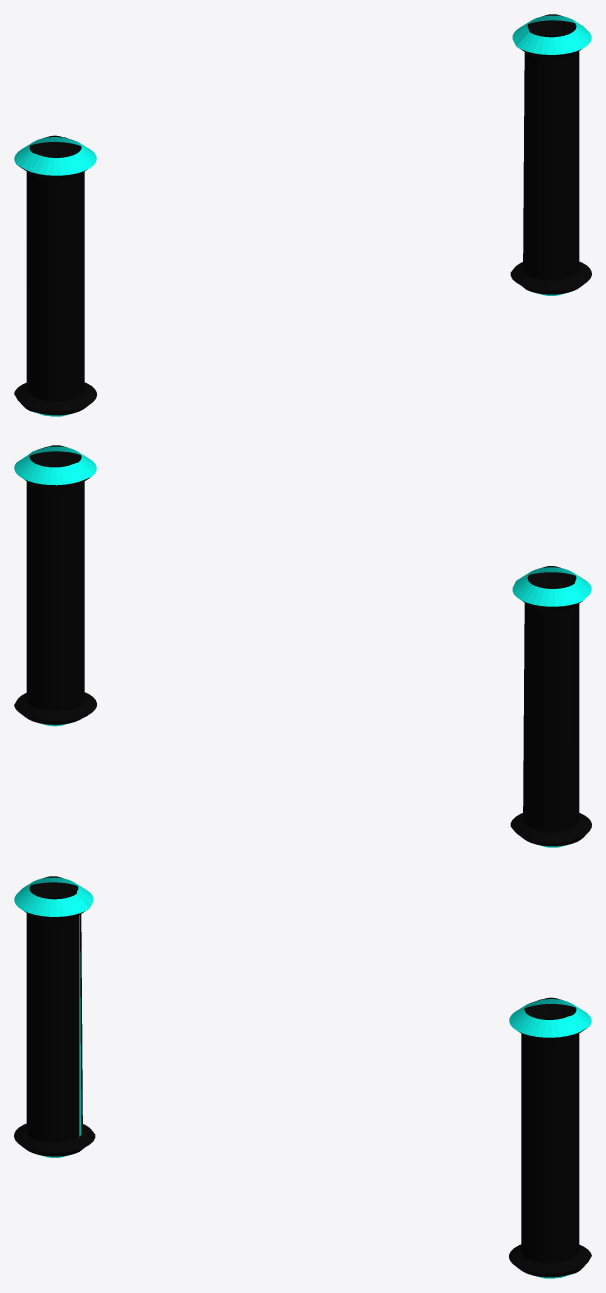
Rendered from pantalla.fbx.
3 renders of one model, top to bottom at view 1: azimuth 30°, elevation 25°; view 2: azimuth 150°, elevation 25°; view 3: azimuth 330°, elevation 25°, orthographic.
Parts seen in each view (by area): view 1: Cylinder; view 2: Cylinder; view 3: Cylinder.
Part boxes in pixels (left/top/right/bottom): Cylinder: left=14, top=14, right=591, bottom=416; Cylinder: left=14, top=445, right=591, bottom=847; Cylinder: left=14, top=876, right=591, bottom=1278.
Size of the model in its own units: 784 by 357 by 97.78.
